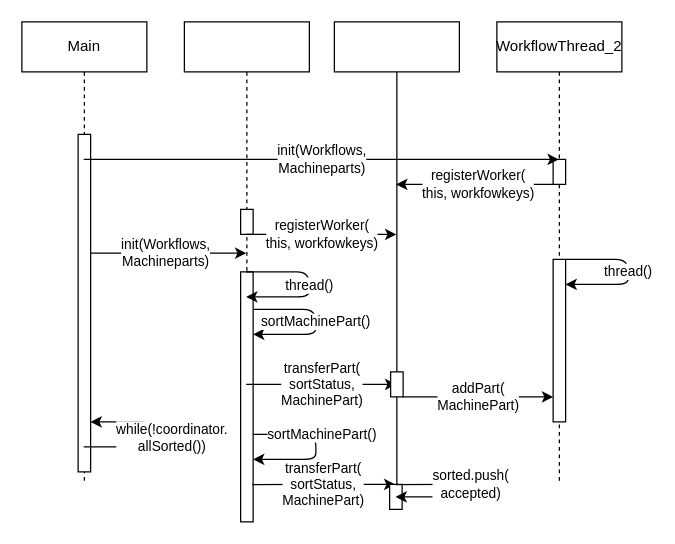
Image size: 675x544. Some labels were removed from this diagram. The shapes that lost their labels are listed below. From the top down, each one's box as (x1, y1, x2, y2) in pixels, then its label:
(183, 21, 309, 522): WorkflowThread_1
(333, 21, 459, 509): PartCoordinator
